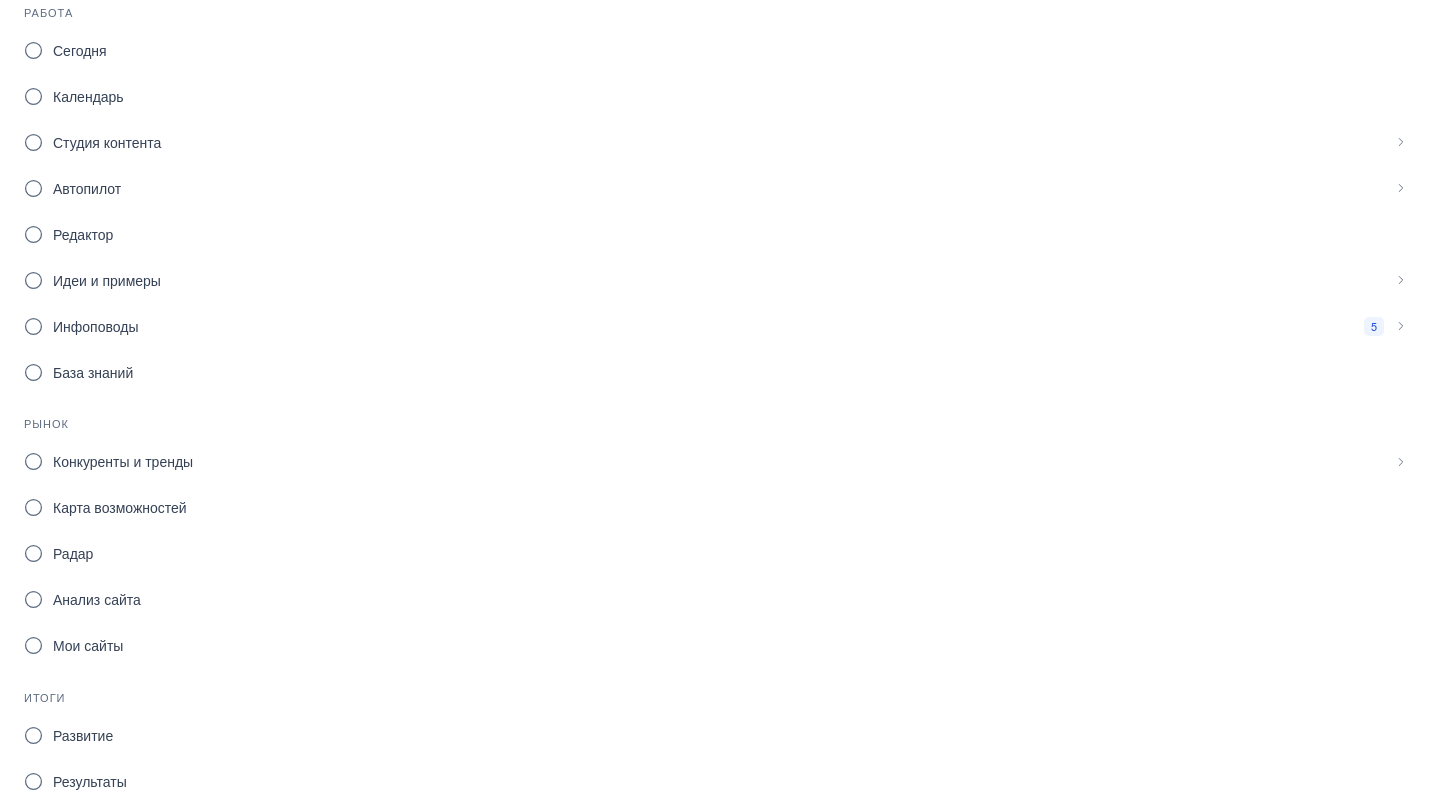
real sidebar navigation interactions › keeps dirty settings intact and explains a blocked navigation
The width and height of the screenshot is (1440, 803).
Click the link "Календарь" at (74, 96), box top-left (24, 86), bottom-right (124, 106)
(page scrolled)
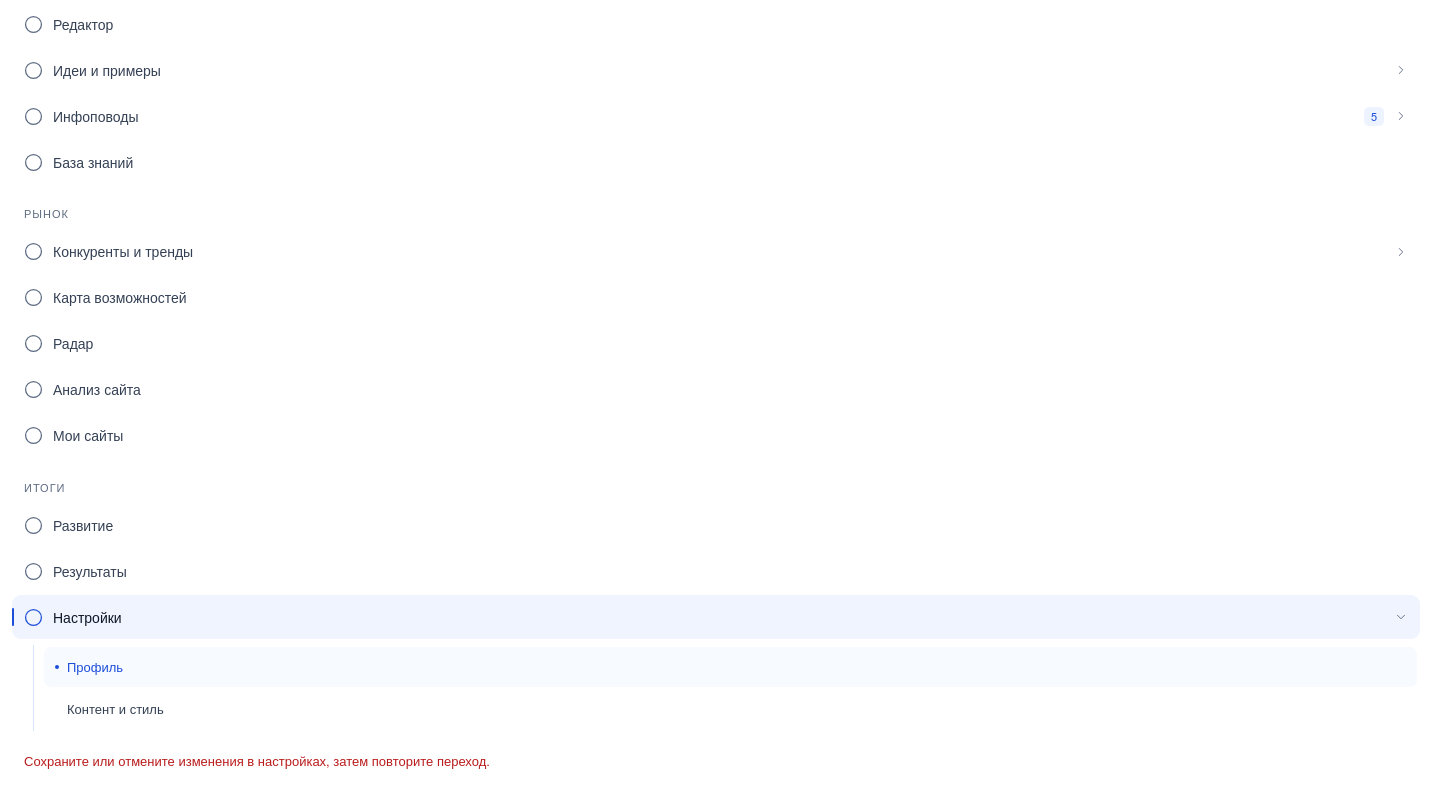
Now the message shows "Сохраните или отмените", box top-left (24, 751), bottom-right (490, 770)
